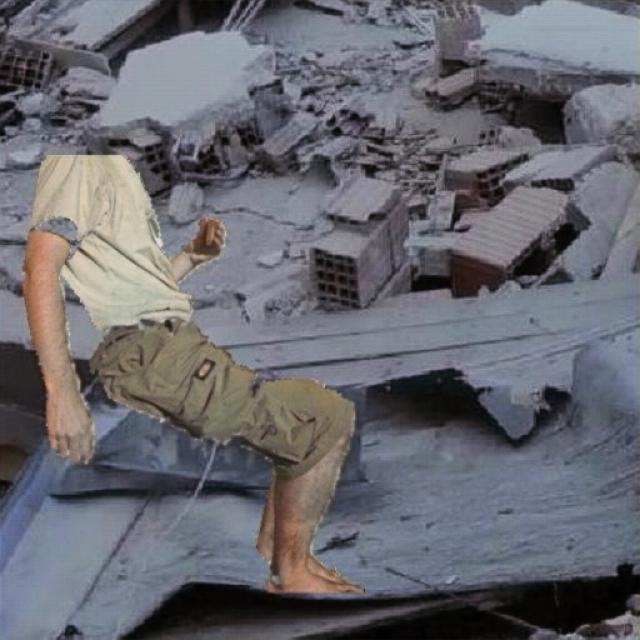Person in Rubble: (22, 155, 364, 591)
